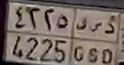2: (40, 7, 55, 63), (27, 7, 40, 63)
4: (12, 6, 24, 62)
5: (55, 11, 68, 64)
D: (103, 21, 115, 65)
G: (74, 17, 87, 63)
S: (88, 20, 102, 65)
